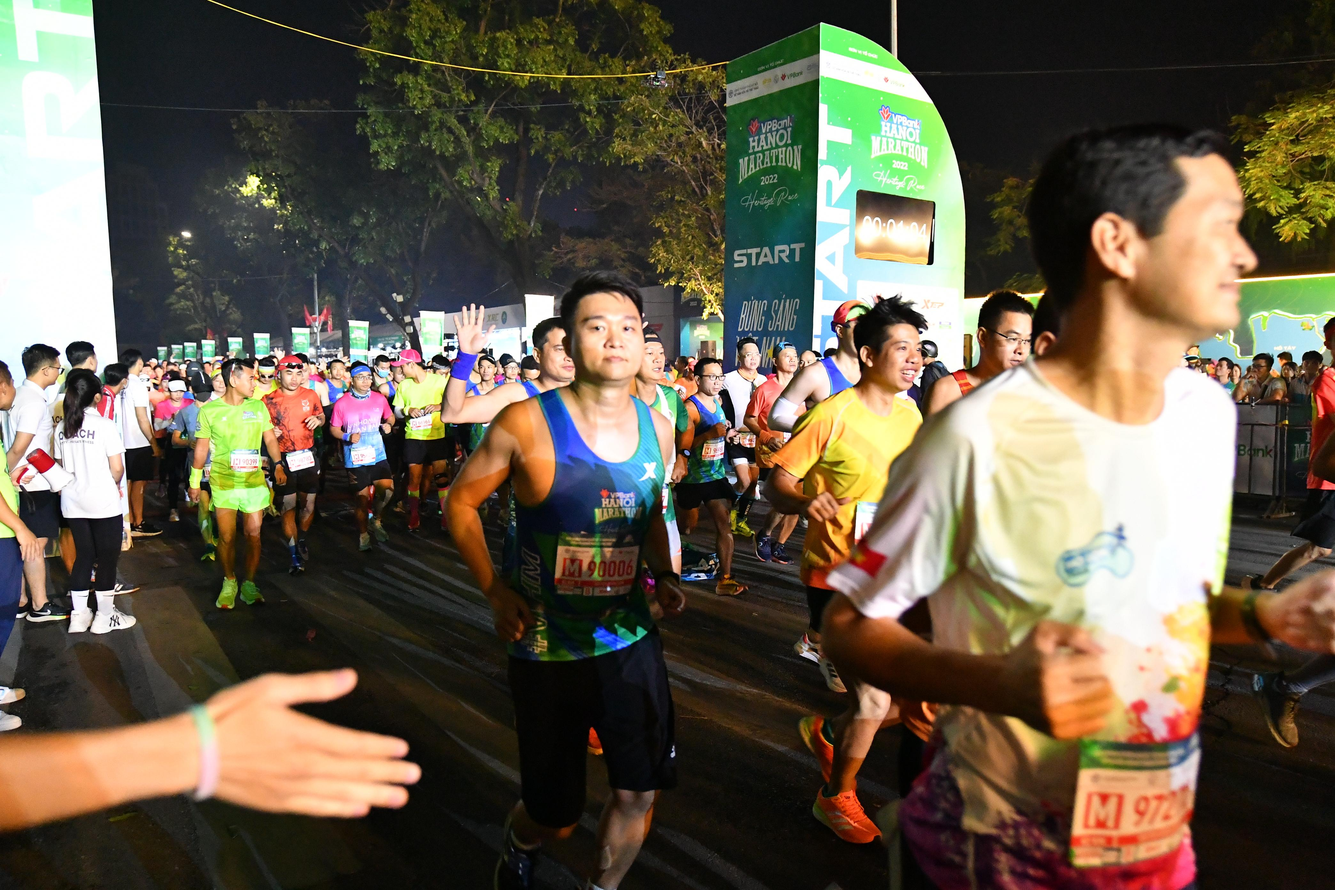bib: (1075, 738, 1200, 865), (556, 532, 639, 594), (231, 449, 260, 472), (286, 452, 315, 472), (350, 448, 376, 467), (703, 438, 725, 459), (410, 415, 432, 431), (739, 432, 755, 447)
